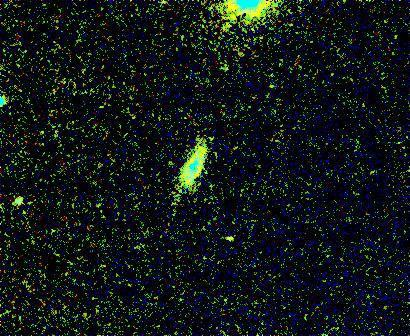star: (217, 224, 247, 254)
